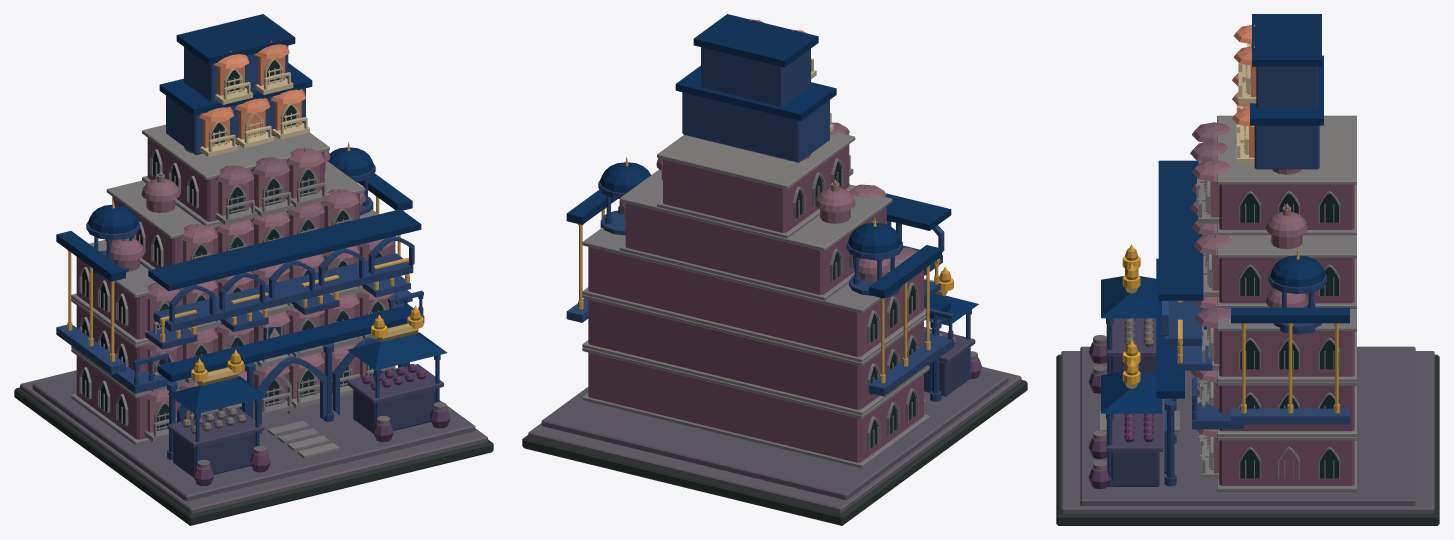
3 views of the same model, side by side, from view 1: azimuth 30°, elevation 25°; view 2: azimuth 150°, elevation 25°; view 3: azimuth 270°, elevation 25° (orthographic). The views are drawn at different scales.
Visible parts, largest first — view 1: market_L10_0, market_L10_1; view 2: market_L10_0, market_L10_1; view 3: market_L10_0, market_L10_1.
Boxes of the visible parts, x1,y1,x2,y2 form: market_L10_0: [14, 14, 493, 525]; market_L10_1: [67, 142, 423, 381]; market_L10_0: [522, 14, 1027, 525]; market_L10_1: [578, 156, 953, 383]; market_L10_0: [1056, 14, 1439, 525]; market_L10_1: [1122, 203, 1339, 413].
Size of the model in its own units: 5.6 by 6.64 by 5.6.
